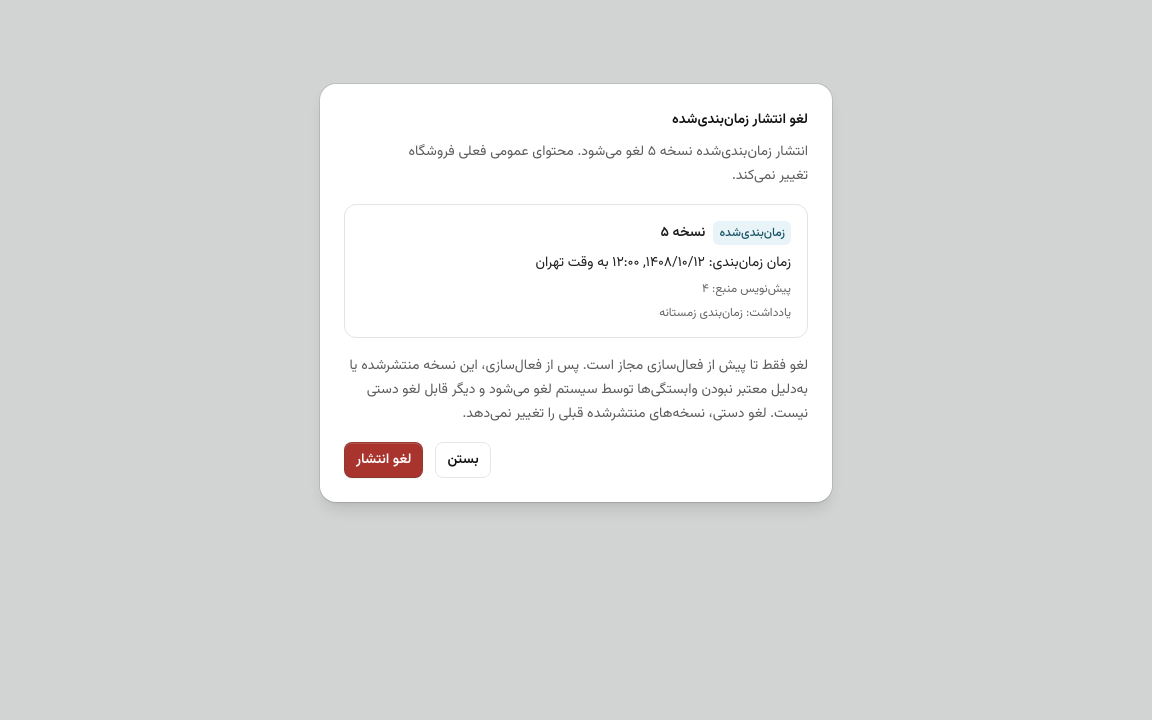
Test: HomepagePublicationCancelDialog (SS-280) › handles conflict by asking the parent to refresh
Step 1. Click the button "لغو انتشار" → coordinates (384, 460), box 344,442 -> 423,478
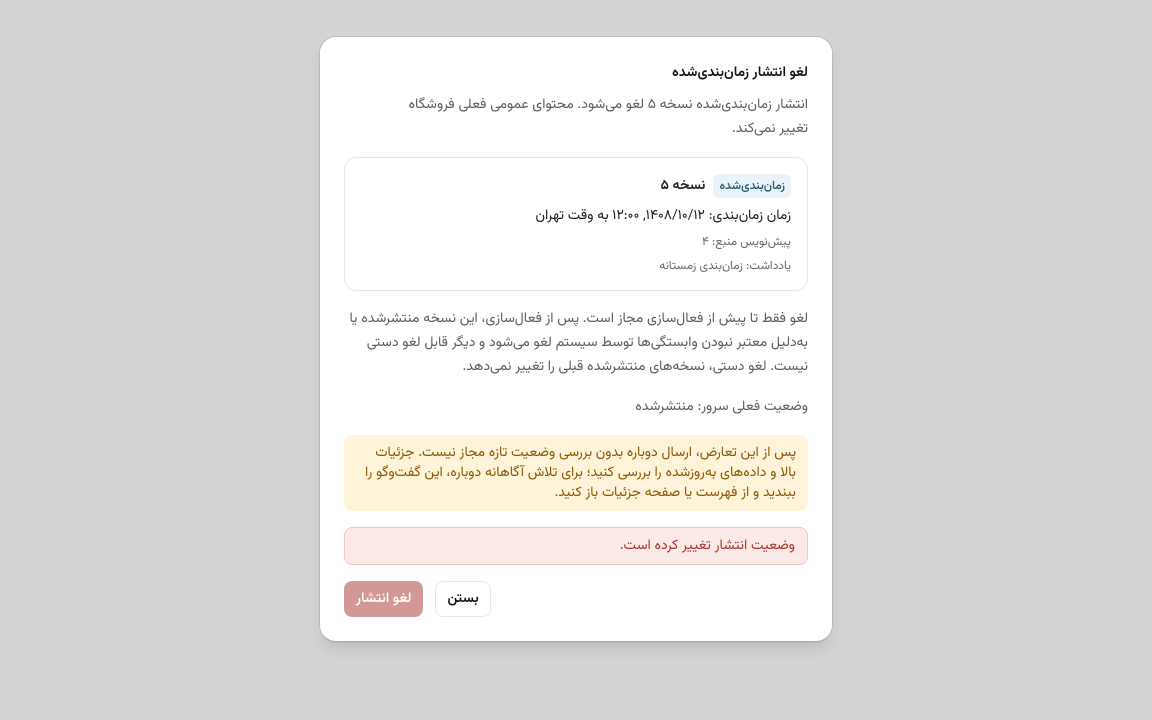
Result: the text "وضعیت انتشار تغییر کرده است." is shown at 344,527 -> 808,565
Result: the text "وضعیت فعلی سرور: منتشرشده" is shown at 635,396 -> 808,418
Result: the button "لغو انتشار" is disabled at 344,581 -> 423,617
